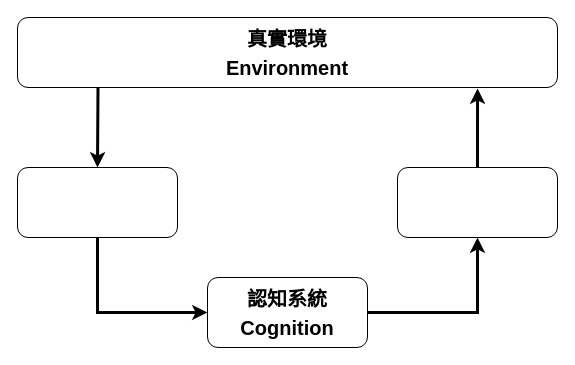
Some shapes in this 575 by 365 pixel diagram are drawn without their labels. Each missing label, with the centre of its shape:
知覺系統 Perception: point 97,202
行為 Action: point 477,202
